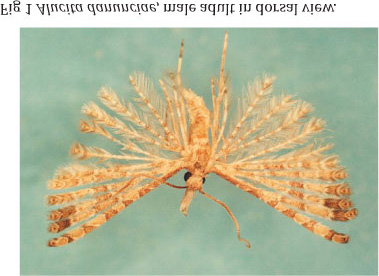Alucitidae: (43, 28, 358, 249)
moth: (45, 30, 360, 251)
